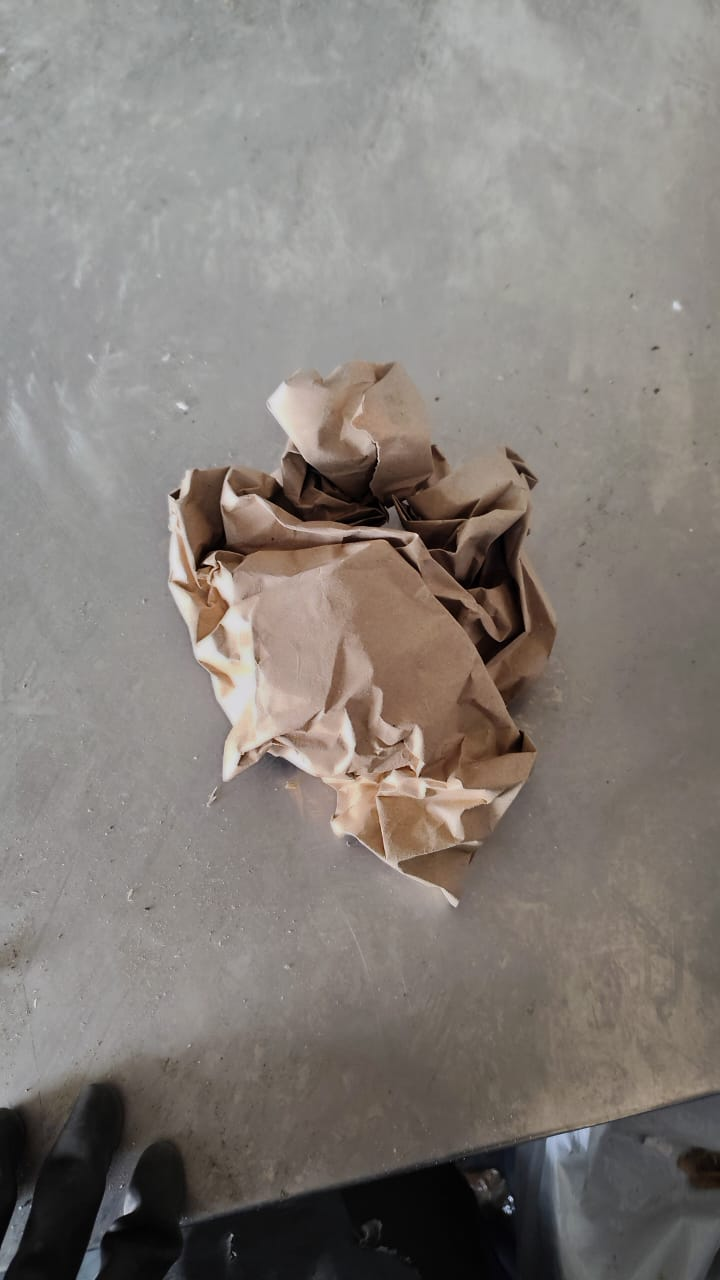Carton: (164, 355, 552, 910)
